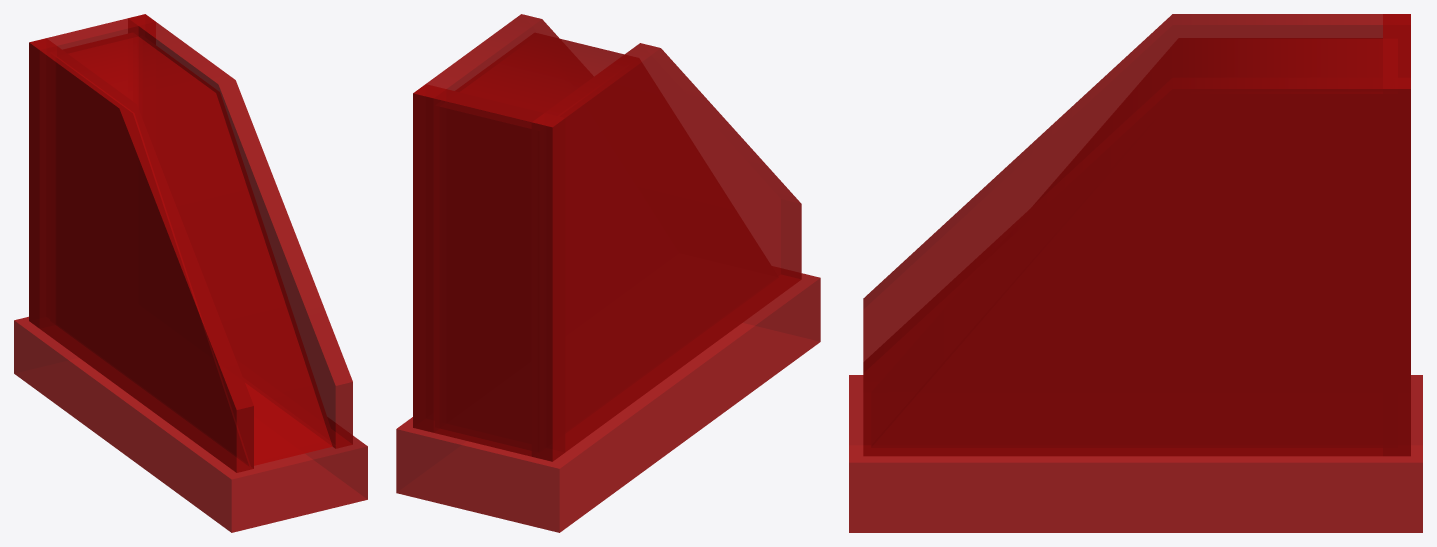
Rendered from SM_Bld_Village_Stairs_Large_01_Collision.fbx.
3 renders of one model, left to right at view 1: azimuth 30°, elevation 25°; view 2: azimuth 150°, elevation 25°; view 3: azimuth 270°, elevation 25°, orthographic. The views are drawn at different scales.
Visible parts, largest first — view 1: SM_Bld_Village_Stairs_Large_01_Collision; view 2: SM_Bld_Village_Stairs_Large_01_Collision; view 3: SM_Bld_Village_Stairs_Large_01_Collision.
Part boxes in pixels (left/top/right/bottom): SM_Bld_Village_Stairs_Large_01_Collision: left=14, top=14, right=367, bottom=532; SM_Bld_Village_Stairs_Large_01_Collision: left=396, top=14, right=820, bottom=532; SM_Bld_Village_Stairs_Large_01_Collision: left=849, top=14, right=1422, bottom=532.
Size of the model in its own units: 196 by 458 by 544.
